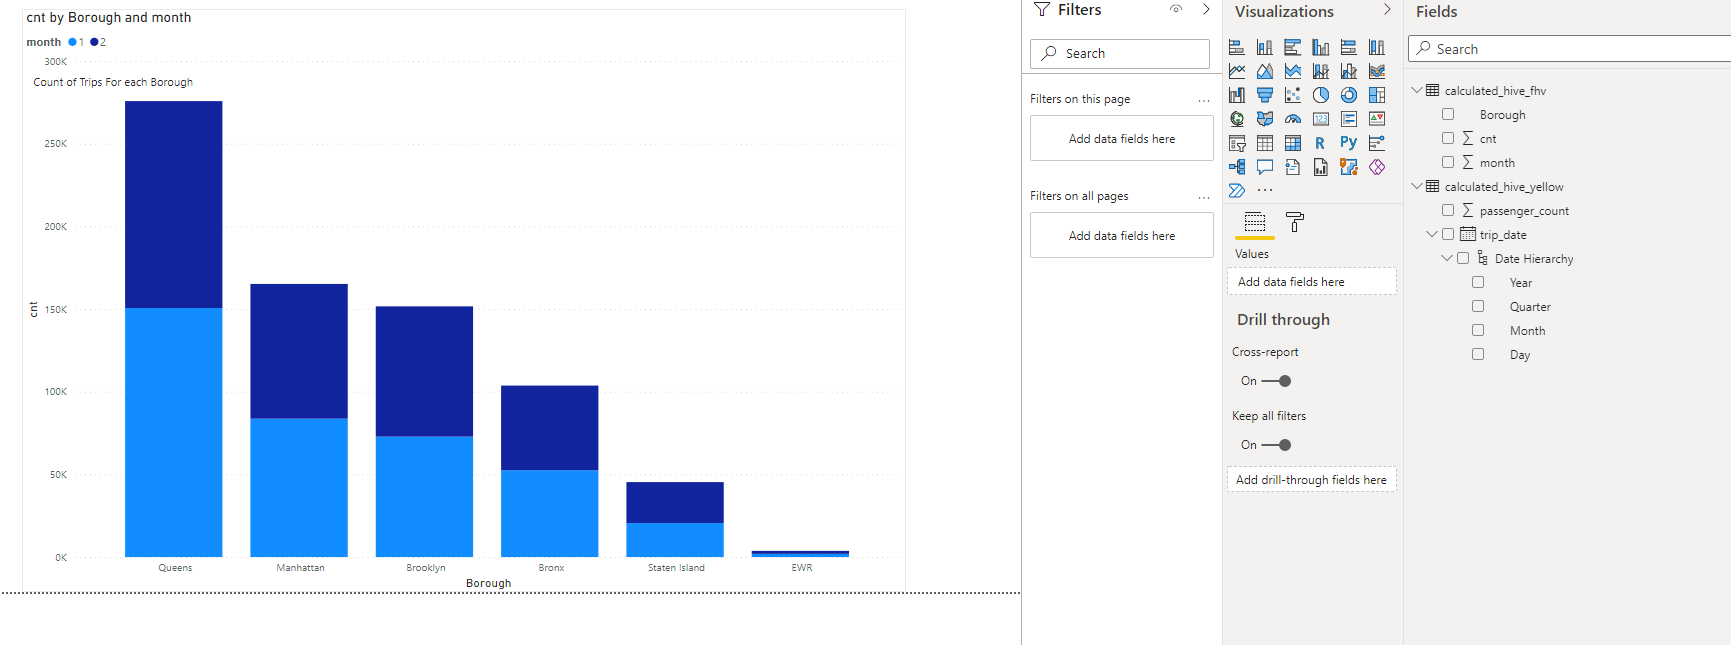

The page's visual inventory and layout, read from the dashboard file:
{"tool":"powerbi","page":{"name":"Page 1","canvas":[1280,720],"ordinal":0},"visuals":[{"type":"columnChart","fields":{"Category":["calculated_hive_fhv.Borough"],"Y":["Sum(calculated_hive_fhv.cnt)"],"Series":["calculated_hive_fhv.month"]},"box":[91.6,25.7,1051.6,694.5],"z":1},{"type":"textbox","box":[99.8,98.8,240.8,37],"z":3}]}

Visuals, with their boxes on the page's 1280x720 design canvas (x1, y1, x2, y2). These are canvas units, not pixel positions in the 1731x645 screenshot, which may show the page scaled, cropped or inside an application window:
columnChart - calculated_hive_fhv.Borough x Sum(calculated_hive_fhv.cnt): <region>92, 26, 1143, 720</region>
textbox: <region>100, 99, 341, 136</region>
